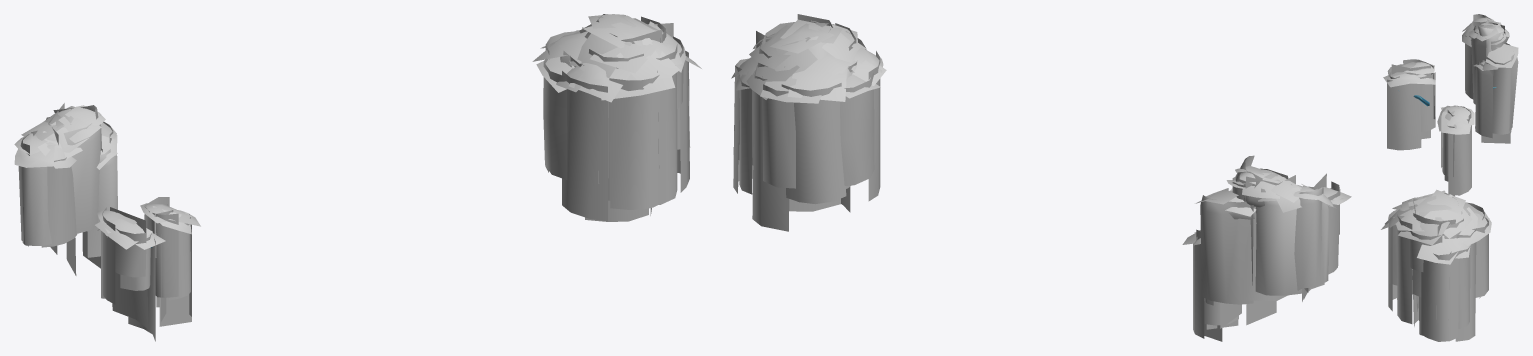
Rendered from Cell2LD_toutie.fbx.
3 views of the same model, side by side, from view 1: azimuth 30°, elevation 25°; view 2: azimuth 150°, elevation 25°; view 3: azimuth 270°, elevation 25° (orthographic). The views are drawn at different scales.
Parts seen in each view (by area): view 1: Cell2LD_toutie; view 2: Cell2LD_toutie; view 3: Cell2LD_toutie.
Part boxes in pixels (x1,y1,x2,y2): Cell2LD_toutie: (14,14,701,341); Cell2LD_toutie: (731,14,1351,341); Cell2LD_toutie: (1381,14,1518,341).
Bounding box in the file's own units: 17.46 × 5.59 × 4.7.
